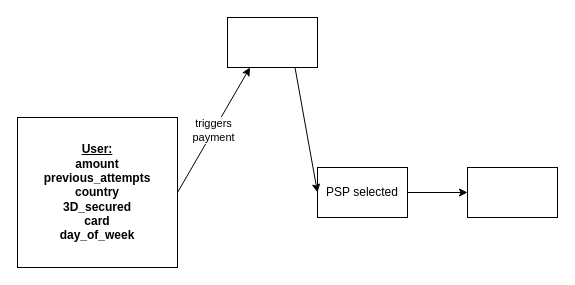
Image size: 575x285. Some labels were removed from this diagram. The shapes that lost their labels are listed below. From the top down, each one's box as (x1, y1, x2, y2) in pixels, then its label:
(226, 16, 318, 68): REST-Endpoint to set PSP
(466, 166, 558, 218): Start transaction-process
